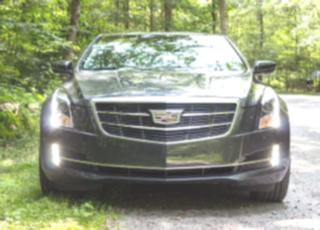cadillac: (146, 105, 186, 129)
